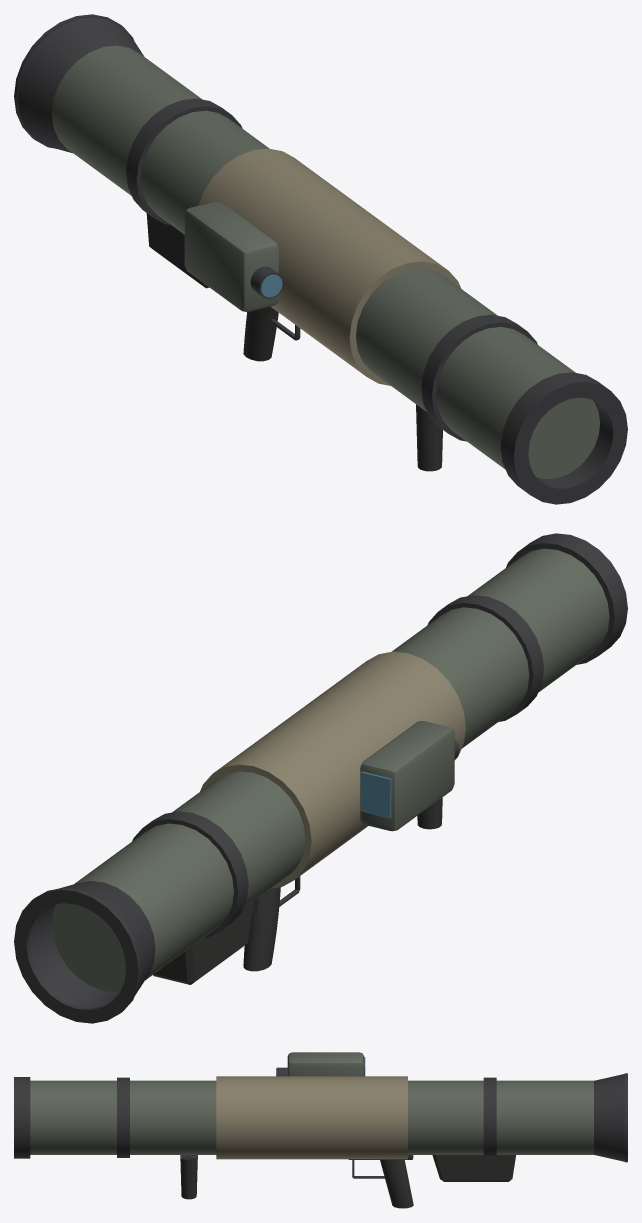
The model's file is goliath.glb.
3 renders of one model, top to bottom at view 1: azimuth 30°, elevation 25°; view 2: azimuth 150°, elevation 25°; view 3: azimuth 270°, elevation 25°, orthographic. The views are drawn at different scales.
Parts seen in each view (by area): view 1: Body; view 2: Body; view 3: Body.
Part boxes in pixels (x1=…): Body: x1=14, y1=14, x2=627, y2=504; Body: x1=14, y1=533, x2=627, y2=1023; Body: x1=14, y1=1052, x2=627, y2=1208.
Size of the model in its own units: 0.2216 by 0.2574 by 1.12.
